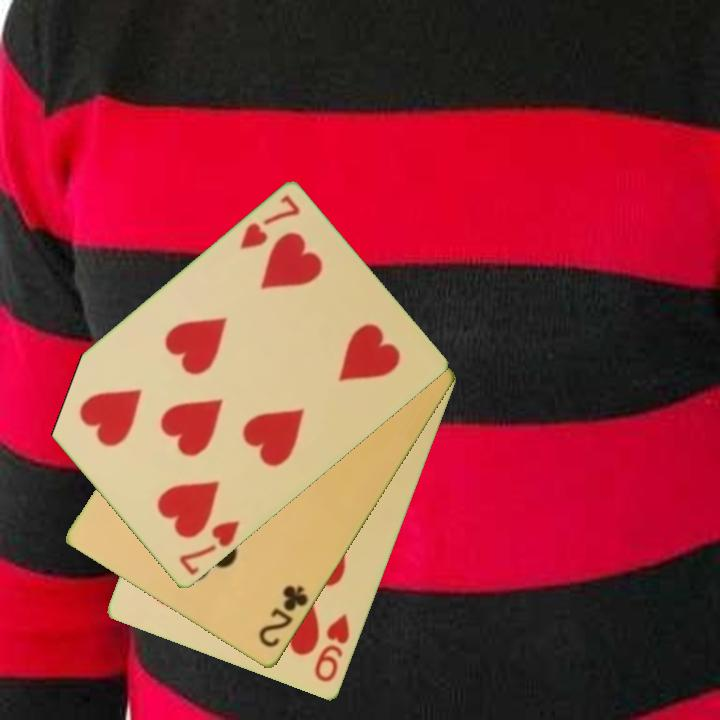2c: (255, 582, 312, 651)
7h: (176, 517, 243, 579), (235, 192, 303, 253)
9h: (311, 610, 353, 686)
